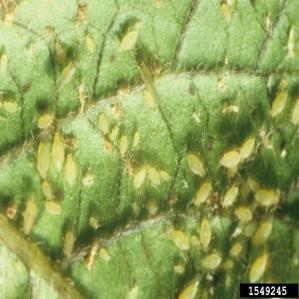Green peach aphid: (118, 16, 152, 55), (26, 143, 55, 179), (244, 255, 276, 285), (266, 84, 291, 121), (184, 150, 214, 180), (191, 216, 217, 249), (20, 199, 41, 238), (34, 107, 64, 130), (167, 232, 194, 257), (79, 29, 103, 57), (94, 114, 119, 140), (254, 224, 280, 249), (237, 135, 261, 160), (221, 144, 244, 170), (38, 199, 67, 218), (254, 187, 282, 206), (130, 168, 149, 189)
